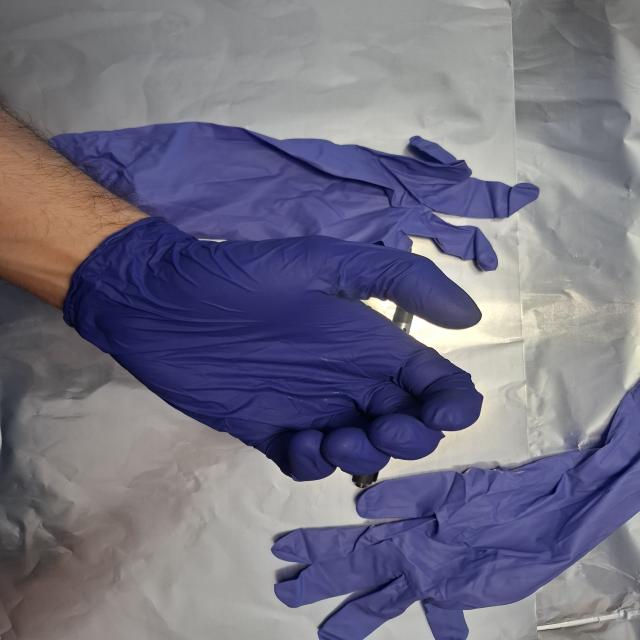glove_on: (63, 215, 487, 484)
